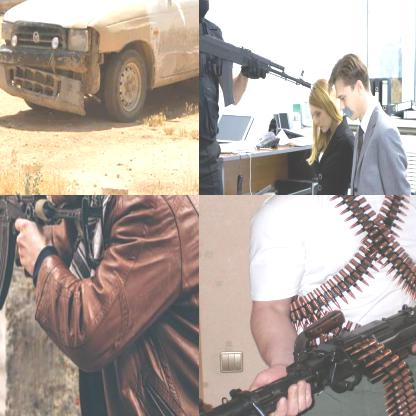rifle: (199, 293, 415, 415), (0, 195, 108, 314), (199, 23, 318, 101)
